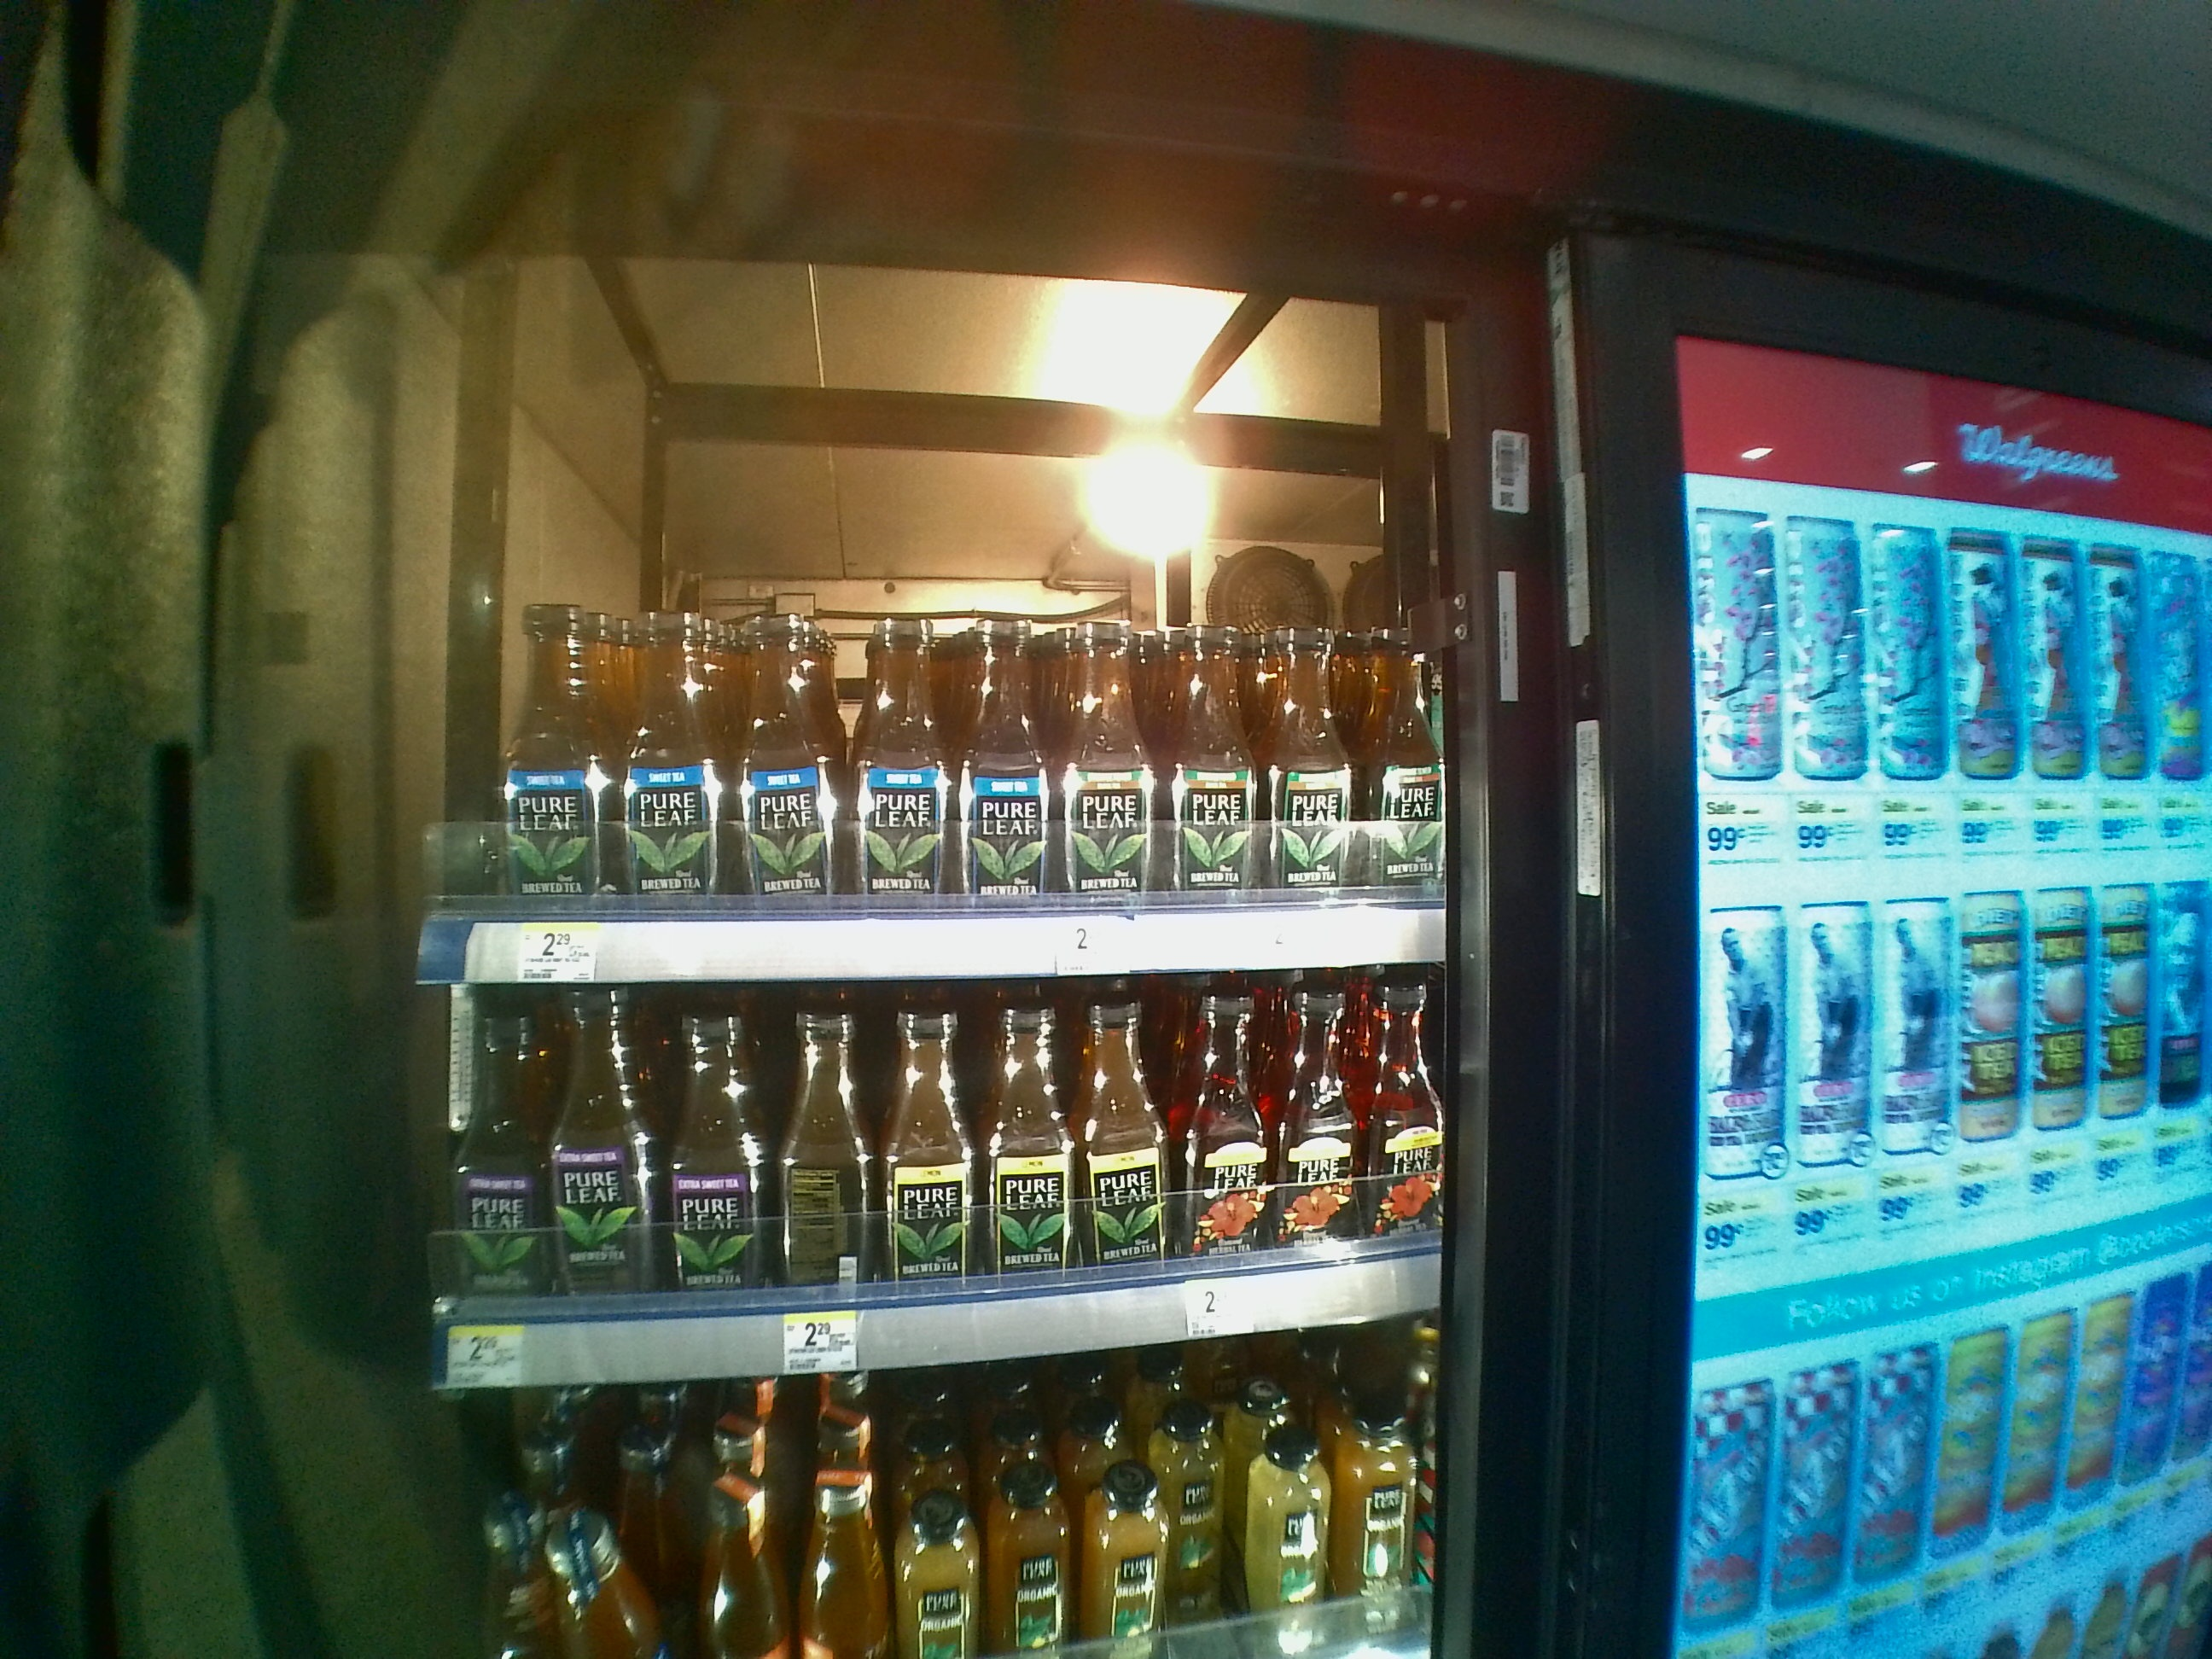shelf: (383, 289, 1453, 983), (383, 1000, 1451, 1399)
